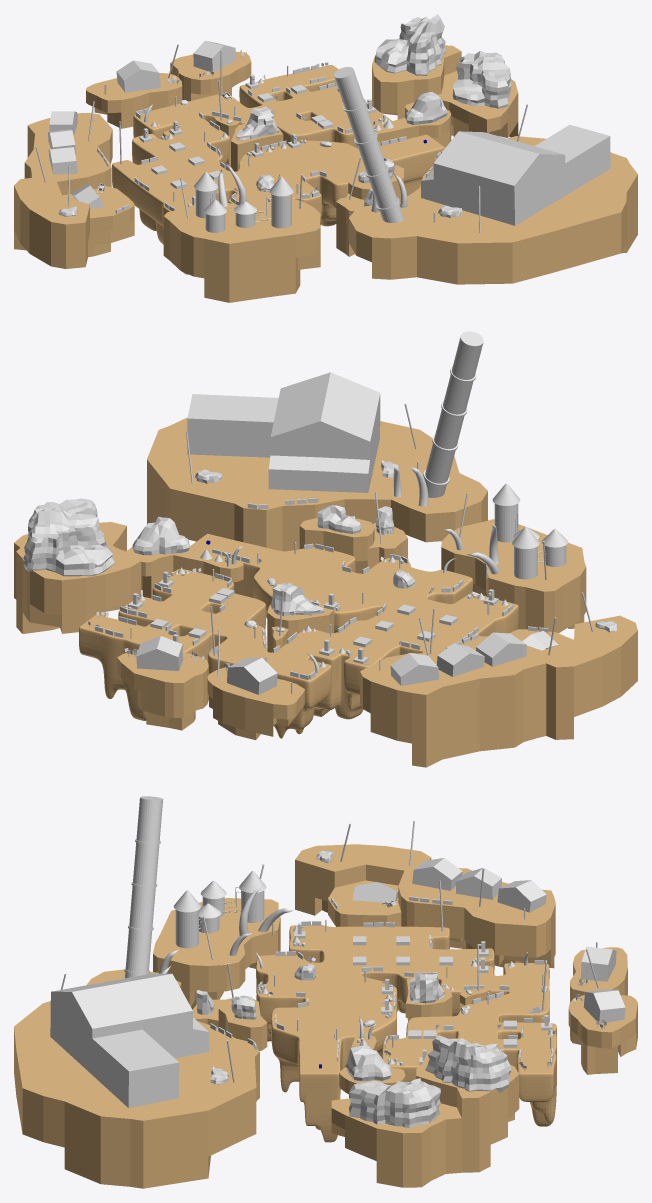
File: Sala2.fbx
The picture shows the model from 3 angles, top to bottom: view 1: azimuth 30°, elevation 25°; view 2: azimuth 150°, elevation 25°; view 3: azimuth 270°, elevation 25°; orthographic projection. The views are drawn at different scales.
Parts seen in each view (by area): view 1: Base 3-2, Cube.111, Cube.119, Cube.113, Cube.112, Cube.110, Tuberia.005, Roca.053, Cube.114, Roca.047, Cube.115, Cube.117 (+14 smaller); view 2: Base 3-2, Cube.113, Cube.111, Cube.119, Cube.112, Cube.110, Roca.053, Cube.115, Cube.114, Tuberia.005, Cube.117, Cube.116 (+13 smaller); view 3: Base 3-2, Cube.111, Cube.113, Cube.119, Cube.110, Cube.112, Tuberia.005, Roca.047, Roca.053, Cube.115, Cube.117, Cube.114 (+13 smaller).
Part boxes in pixels (x1,y1,x2,y2): Base 3-2: [112, 65, 444, 274]; Cube.111: [348, 136, 637, 284]; Cube.119: [420, 124, 610, 225]; Cube.113: [14, 112, 134, 268]; Cube.112: [163, 199, 320, 302]; Cube.110: [372, 45, 518, 137]; Tuberia.005: [334, 67, 403, 222]; Roca.053: [374, 14, 446, 75]; Cube.114: [86, 73, 182, 128]; Roca.047: [452, 51, 511, 108]; Cube.115: [170, 51, 251, 101]; Cube.117: [336, 165, 403, 256]; Base 3-2: [79, 533, 518, 738]; Cube.113: [360, 615, 637, 767]; Cube.111: [147, 417, 487, 551]; Cube.119: [187, 372, 380, 492]; Cube.112: [441, 519, 586, 633]; Cube.110: [14, 522, 141, 633]; Roca.053: [23, 507, 114, 576]; Cube.115: [117, 649, 208, 730]; Cube.114: [207, 667, 304, 739]; Tuberia.005: [423, 331, 483, 497]; Cube.117: [299, 517, 407, 573]; Cube.116: [126, 541, 243, 598]; Base 3-2: [256, 924, 556, 1142]; Cube.111: [14, 969, 259, 1188]; Cube.113: [295, 844, 555, 968]; Cube.119: [50, 973, 208, 1108]; Cube.110: [331, 1052, 519, 1187]; Cube.112: [153, 898, 280, 1009]; Tuberia.005: [124, 796, 163, 978]; Roca.047: [349, 1078, 440, 1127]; Roca.053: [425, 1035, 511, 1092]; Cube.115: [568, 995, 637, 1074]; Cube.117: [193, 998, 267, 1050]; Cube.114: [570, 947, 627, 1044].
Bounding box in the file's own units: 42684 × 44810 × 20283.
